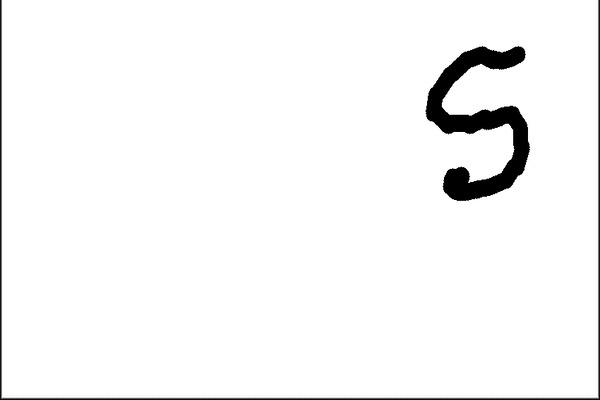S: (415, 39, 546, 206)
